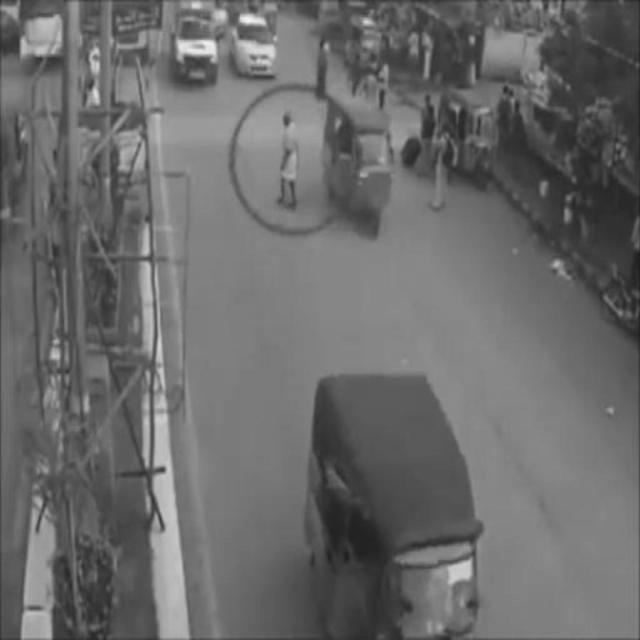person: (277, 111, 299, 211), (430, 123, 450, 211), (316, 35, 331, 105)
vehicle: (318, 378, 480, 639), (327, 104, 393, 238), (445, 84, 500, 188), (172, 15, 220, 83), (231, 17, 278, 78)
